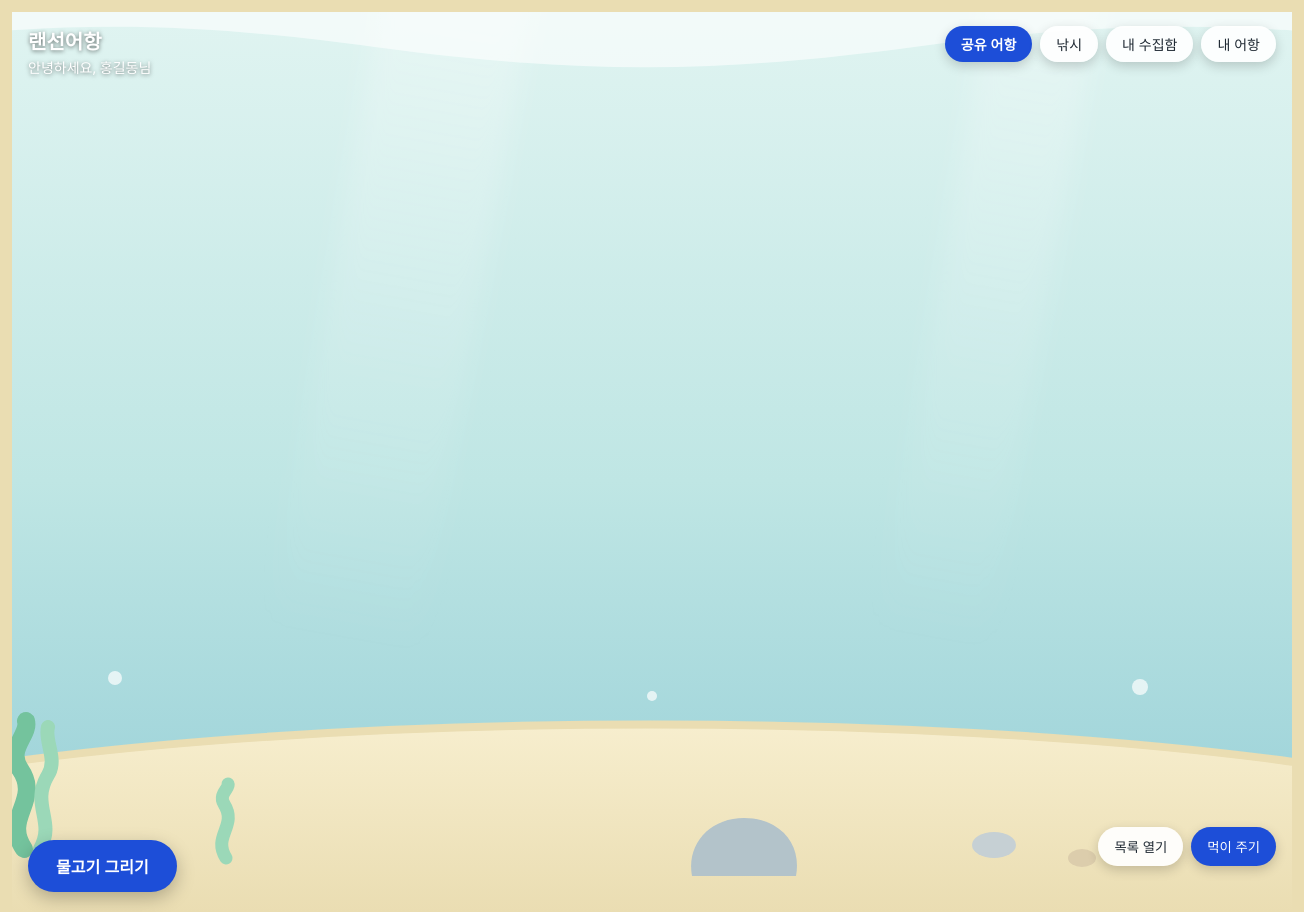
Test: App — 내 어항 탭 (3탭 전환) › '내 어항' 버튼을 누르면 내 어항 뷰로 전환한다
What coordinates should you click on to do the following:
click the button "내 어항"
I would click on:
 (1239, 44)
Its box is [1202, 26, 1276, 62].
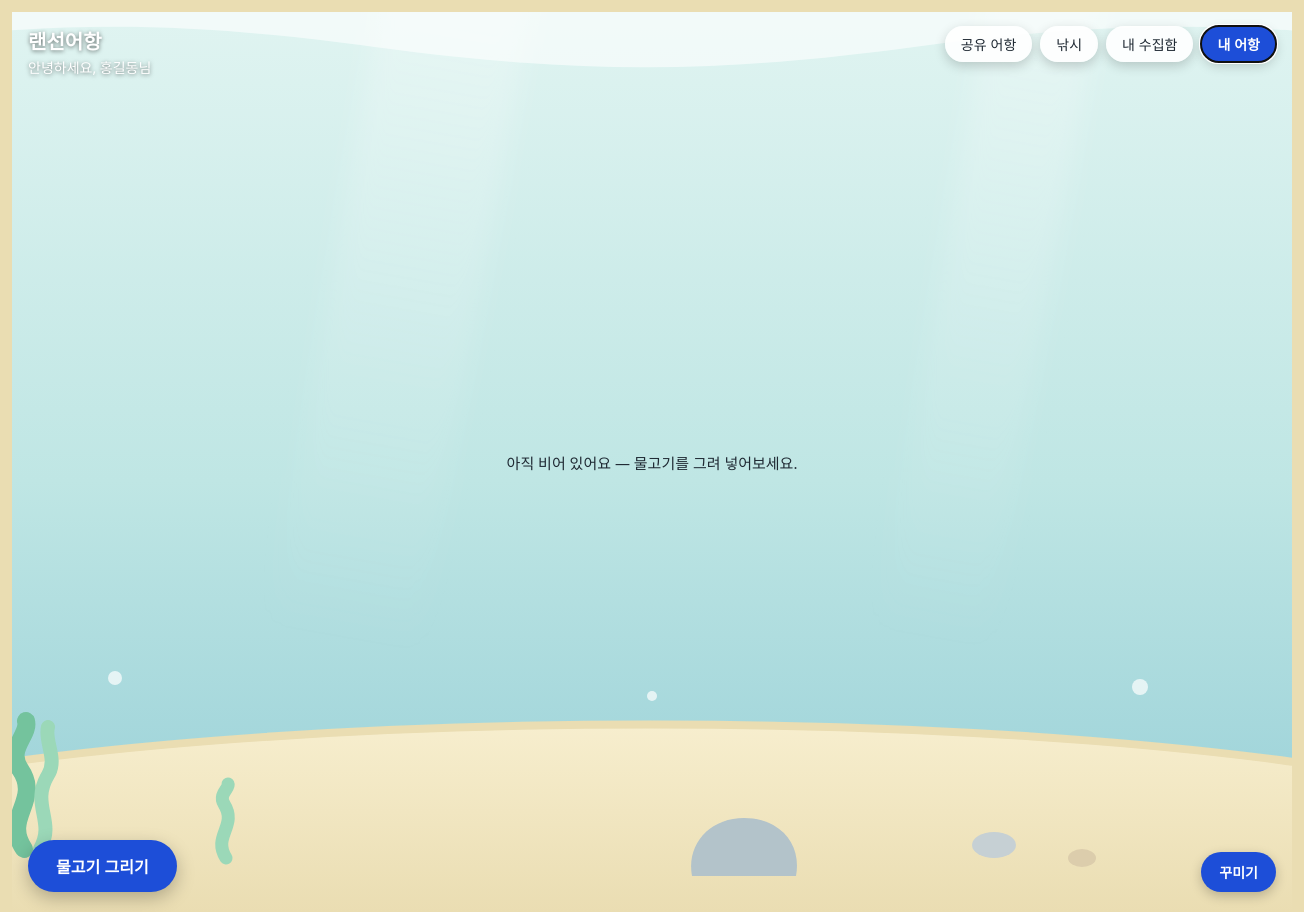
Result: the picture named "내 어항 캔버스" is shown
